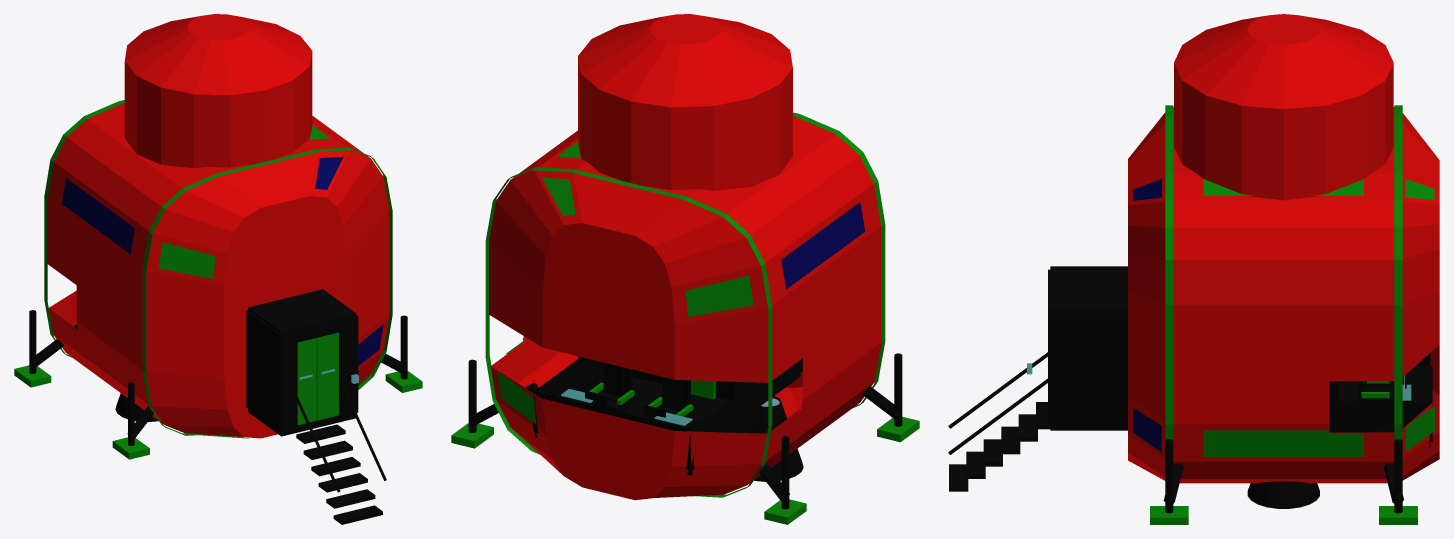
The model's file is hopper.glb.
The picture shows the model from 3 angles, left to right: view 1: azimuth 30°, elevation 25°; view 2: azimuth 150°, elevation 25°; view 3: azimuth 270°, elevation 25°; orthographic projection. The views are drawn at different scales.
Parts seen in each view (by area): view 1: pioneer_hopper:pressure_hull_0, pioneer_hopper:upper_tanks, pioneer_hopper:room_eva, pioneer_hopper:inspection_panels_0, pioneer_hopper:habitat_seams_1, pioneer_hopper:boarding_steps, pioneer_hopper:ceiling_eva, pioneer_hopper:door_eva-outer_1, pioneer_hopper:door_eva-outer_-1, pioneer_hopper:gear_0, pioneer_hopper:gear_3, pioneer_hopper:gear_2 (+1 smaller); view 2: pioneer_hopper:pressure_hull_0, pioneer_hopper:upper_tanks, pioneer_hopper:room_bridge, pioneer_hopper:inspection_panels_0, pioneer_hopper:habitat_seams_1, pioneer_hopper:seat_1, pioneer_hopper:gear_0, pioneer_hopper:gear_2, pioneer_hopper:gear_1, pioneer_hopper:gear_mounts, pioneer_hopper:engine_0, pioneer_hopper:seat_0 (+1 smaller); view 3: pioneer_hopper:pressure_hull_0, pioneer_hopper:upper_tanks, pioneer_hopper:room_eva, pioneer_hopper:inspection_panels_0, pioneer_hopper:habitat_seams_1, pioneer_hopper:room_bridge, pioneer_hopper:boarding_steps, pioneer_hopper:ceiling_eva, pioneer_hopper:engine_1, pioneer_hopper:gear_1, pioneer_hopper:gear_3, pioneer_hopper:gear_mounts (+1 smaller).
Boxes of the visible parts, left/top/right/bottom form: pioneer_hopper:pressure_hull_0: left=47, top=103, right=389, bottom=438; pioneer_hopper:upper_tanks: left=124, top=14, right=312, bottom=168; pioneer_hopper:room_eva: left=246, top=310, right=358, bottom=436; pioneer_hopper:inspection_panels_0: left=61, top=125, right=383, bottom=438; pioneer_hopper:habitat_seams_1: left=44, top=100, right=392, bottom=435; pioneer_hopper:boarding_steps: left=295, top=384, right=386, bottom=524; pioneer_hopper:ceiling_eva: left=248, top=289, right=356, bottom=334; pioneer_hopper:door_eva-outer_1: left=316, top=332, right=338, bottom=420; pioneer_hopper:door_eva-outer_-1: left=297, top=338, right=316, bottom=425; pioneer_hopper:gear_0: left=14, top=310, right=51, bottom=387; pioneer_hopper:gear_3: left=385, top=315, right=422, bottom=392; pioneer_hopper:gear_2: left=112, top=382, right=149, bottom=459; pioneer_hopper:pressure_hull_0: left=489, top=116, right=881, bottom=500; pioneer_hopper:upper_tanks: left=578, top=14, right=792, bottom=190; pioneer_hopper:room_bridge: left=533, top=356, right=774, bottom=475; pioneer_hopper:inspection_panels_0: left=497, top=141, right=864, bottom=424; pioneer_hopper:habitat_seams_1: left=485, top=112, right=885, bottom=497; pioneer_hopper:seat_1: left=589, top=362, right=634, bottom=413; pioneer_hopper:gear_0: left=764, top=436, right=806, bottom=524; pioneer_hopper:gear_2: left=877, top=353, right=919, bottom=442; pioneer_hopper:gear_1: left=451, top=359, right=493, bottom=448; pioneer_hopper:gear_mounts: left=469, top=382, right=900, bottom=500; pioneer_hopper:engine_0: left=750, top=396, right=803, bottom=481; pioneer_hopper:seat_0: left=648, top=377, right=693, bottom=419; pioneer_hopper:pressure_hull_0: left=1128, top=107, right=1439, bottom=483; pioneer_hopper:upper_tanks: left=1174, top=14, right=1393, bottom=200; pioneer_hopper:room_eva: left=1048, top=269, right=1127, bottom=430; pioneer_hopper:inspection_panels_0: left=1133, top=178, right=1434, bottom=456; pioneer_hopper:habitat_seams_1: left=1165, top=105, right=1402, bottom=440; pioneer_hopper:room_bridge: left=1329, top=352, right=1432, bottom=447; pioneer_hopper:boarding_steps: left=948, top=352, right=1050, bottom=491; pioneer_hopper:ceiling_eva: left=1050, top=266, right=1127, bottom=312; pioneer_hopper:engine_1: left=1247, top=481, right=1319, bottom=508; pioneer_hopper:gear_1: left=1379, top=439, right=1417, bottom=524; pioneer_hopper:gear_3: left=1150, top=439, right=1188, bottom=524; pioneer_hopper:gear_mounts: left=1163, top=429, right=1403, bottom=503.
Size of the model in its own units: 8.6 by 10.85 by 10.72.
